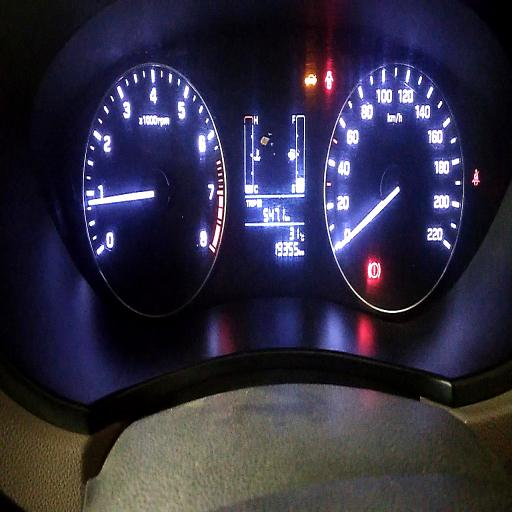belt: (472, 167, 480, 187)
brake_system_fault: (368, 260, 381, 280)
tachometer: (82, 64, 228, 316)
